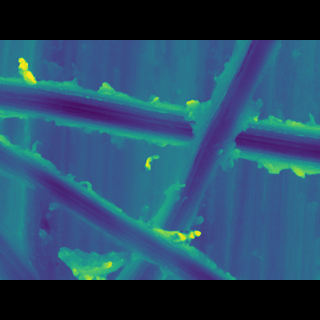Loch: (112, 69, 285, 250), (0, 144, 238, 249), (0, 95, 320, 170)
